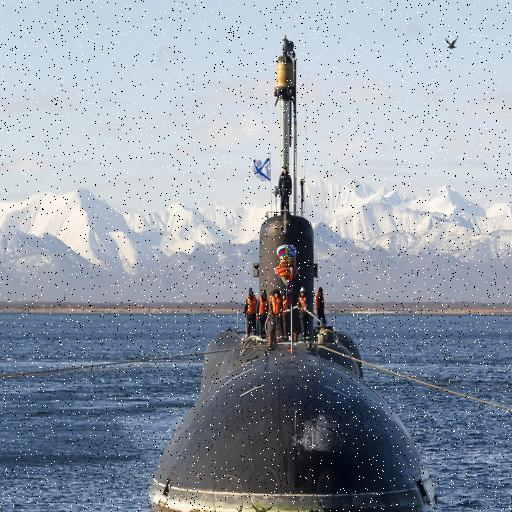submarine: (143, 16, 443, 512)
